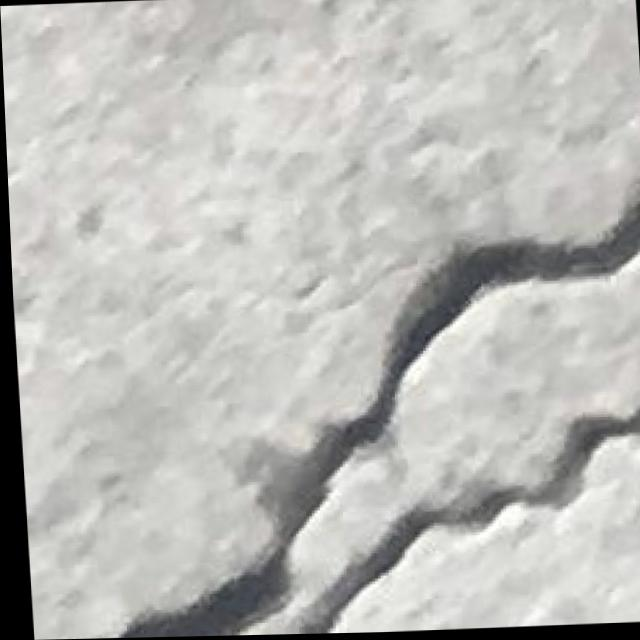Crack: (81, 189, 640, 639)
